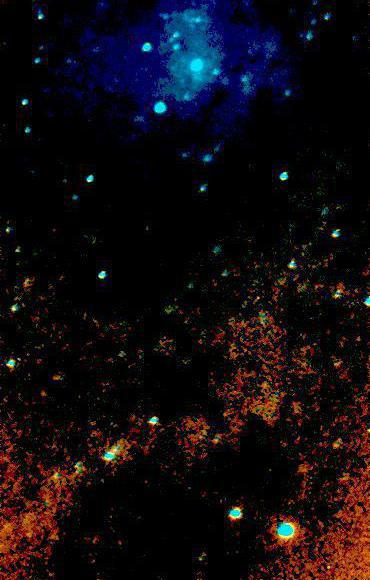star: (319, 429, 349, 459)
